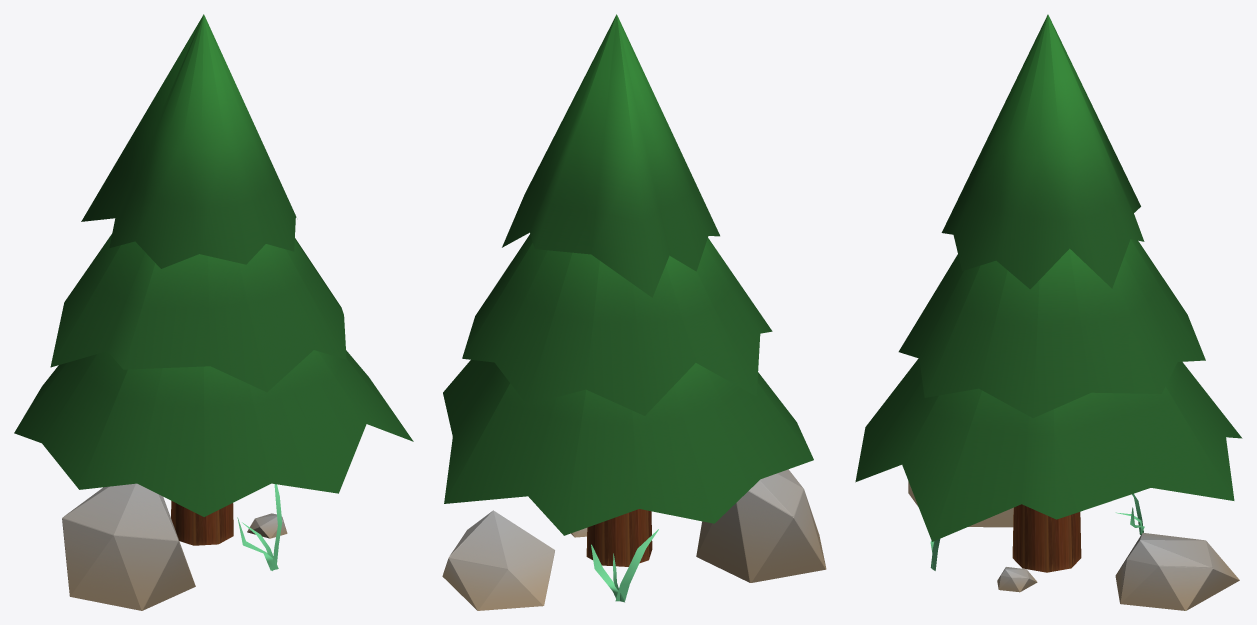
The model's file is Pine tree collection 2.fbx.
The picture shows the model from 3 angles, left to right: view 1: azimuth 30°, elevation 25°; view 2: azimuth 150°, elevation 25°; view 3: azimuth 270°, elevation 25°; orthographic projection. The views are drawn at different scales.
Parts seen in each view (by area): view 1: Pine tree Collection 2; view 2: Pine tree Collection 2; view 3: Pine tree Collection 2.
Boxes of the visible parts, left/top/right/bottom form: Pine tree Collection 2: left=14, top=14, right=413, bottom=610; Pine tree Collection 2: left=442, top=14, right=826, bottom=610; Pine tree Collection 2: left=855, top=14, right=1242, bottom=610.
Bounding box in the file's own units: 27.44 × 41.26 × 26.42.
